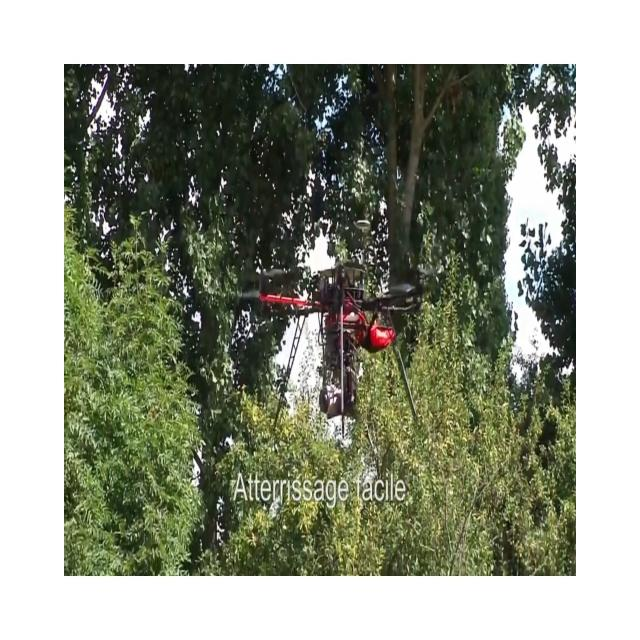drone: (233, 218, 432, 432)
